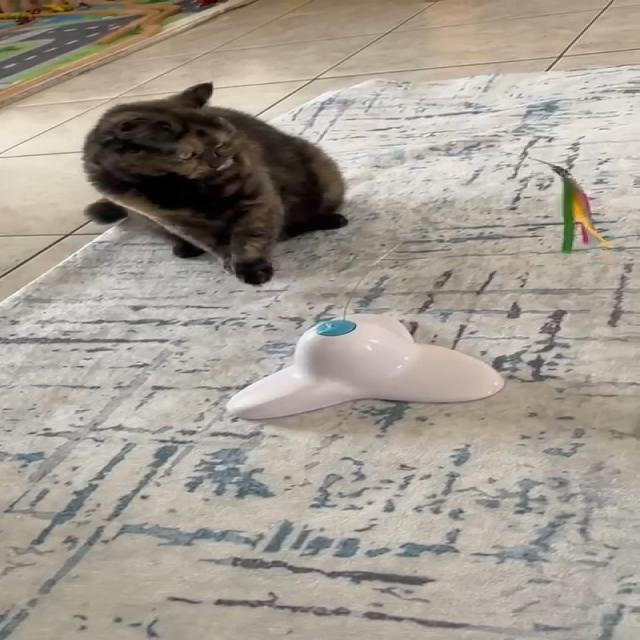authorized: (80, 81, 348, 285)
